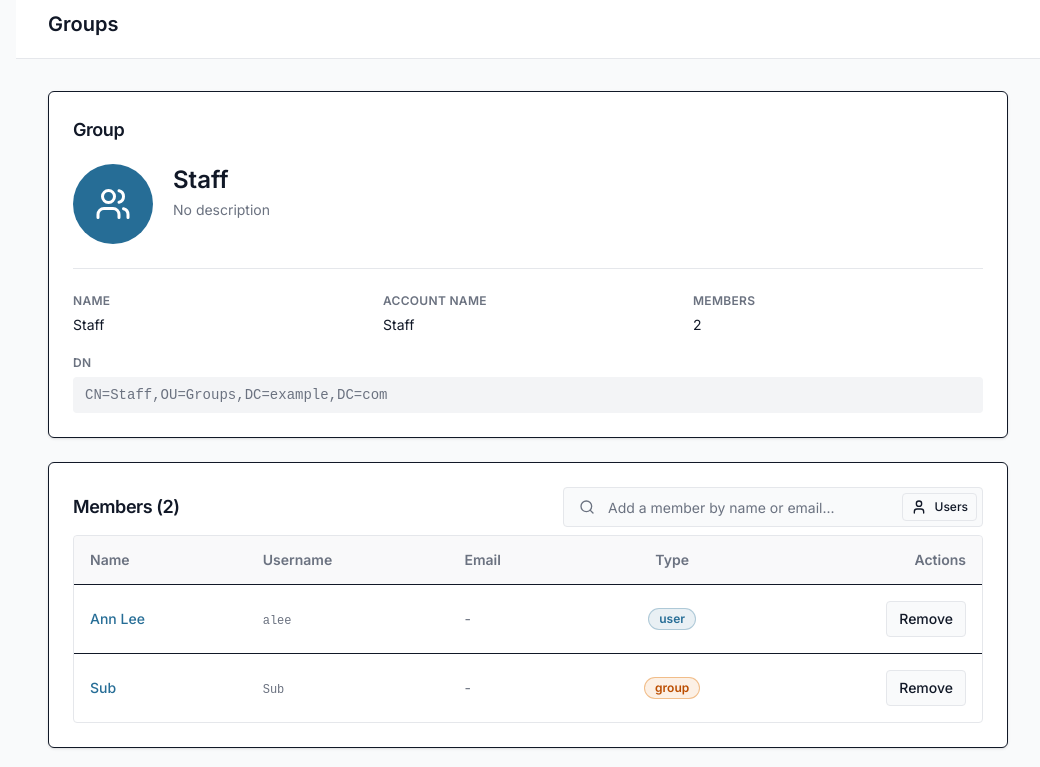
GroupPage member management › adding a group › does not offer the group itself or a group that is already a member
Click the button with aria-label "Search groups". click: [939, 507]
box: [902, 493, 977, 521]
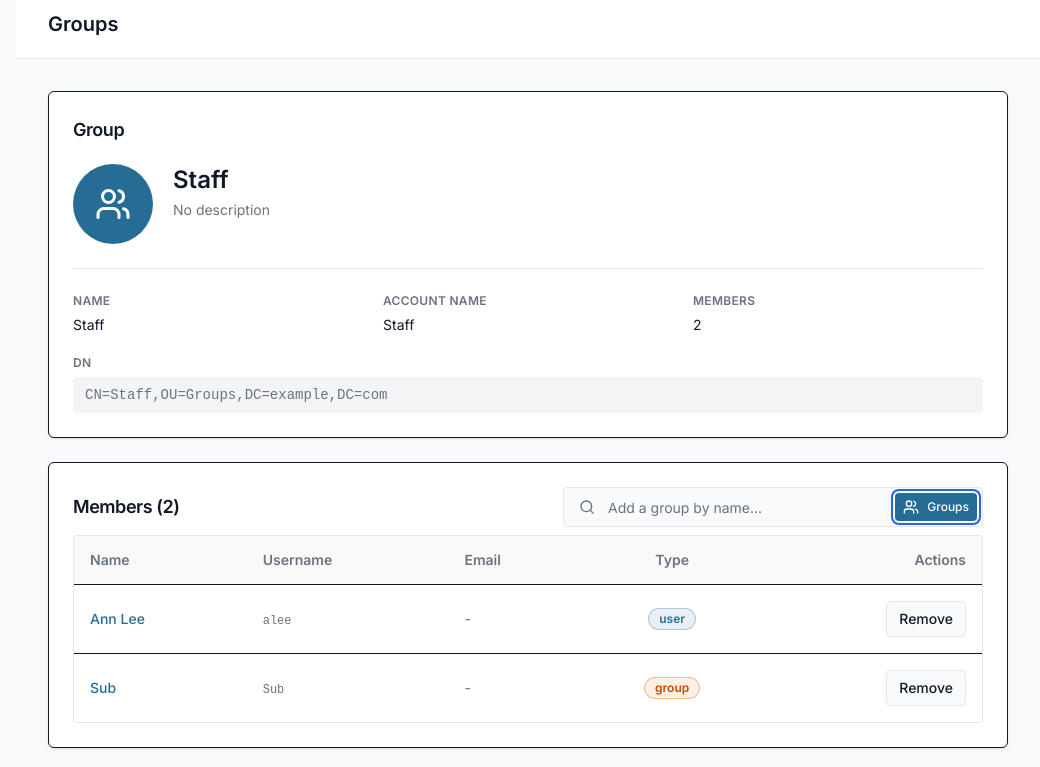
Type "st" into the field labelled "Add a group". click: [773, 507]
box: [563, 487, 983, 527]
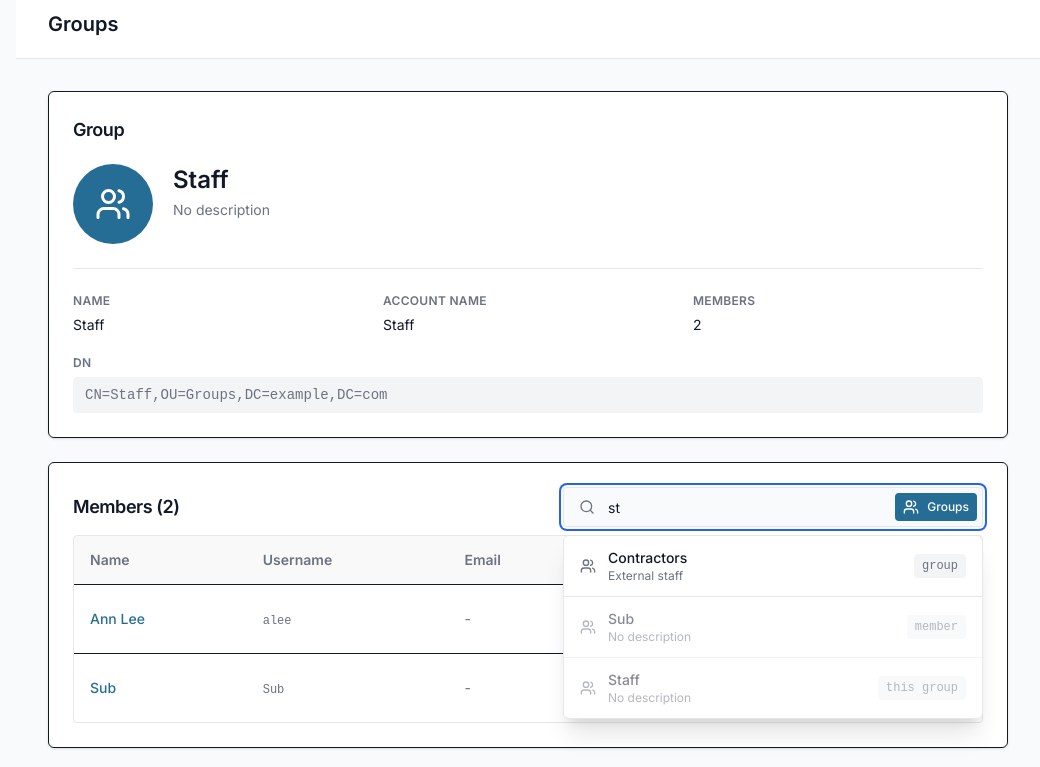
Now the button "Contractors External staff group" is enabled, box [564, 536, 982, 597]
Now the button "Sub No description member" is disabled, box [564, 597, 982, 658]
Now the button "Staff No description this group" is disabled, box [564, 658, 982, 718]
